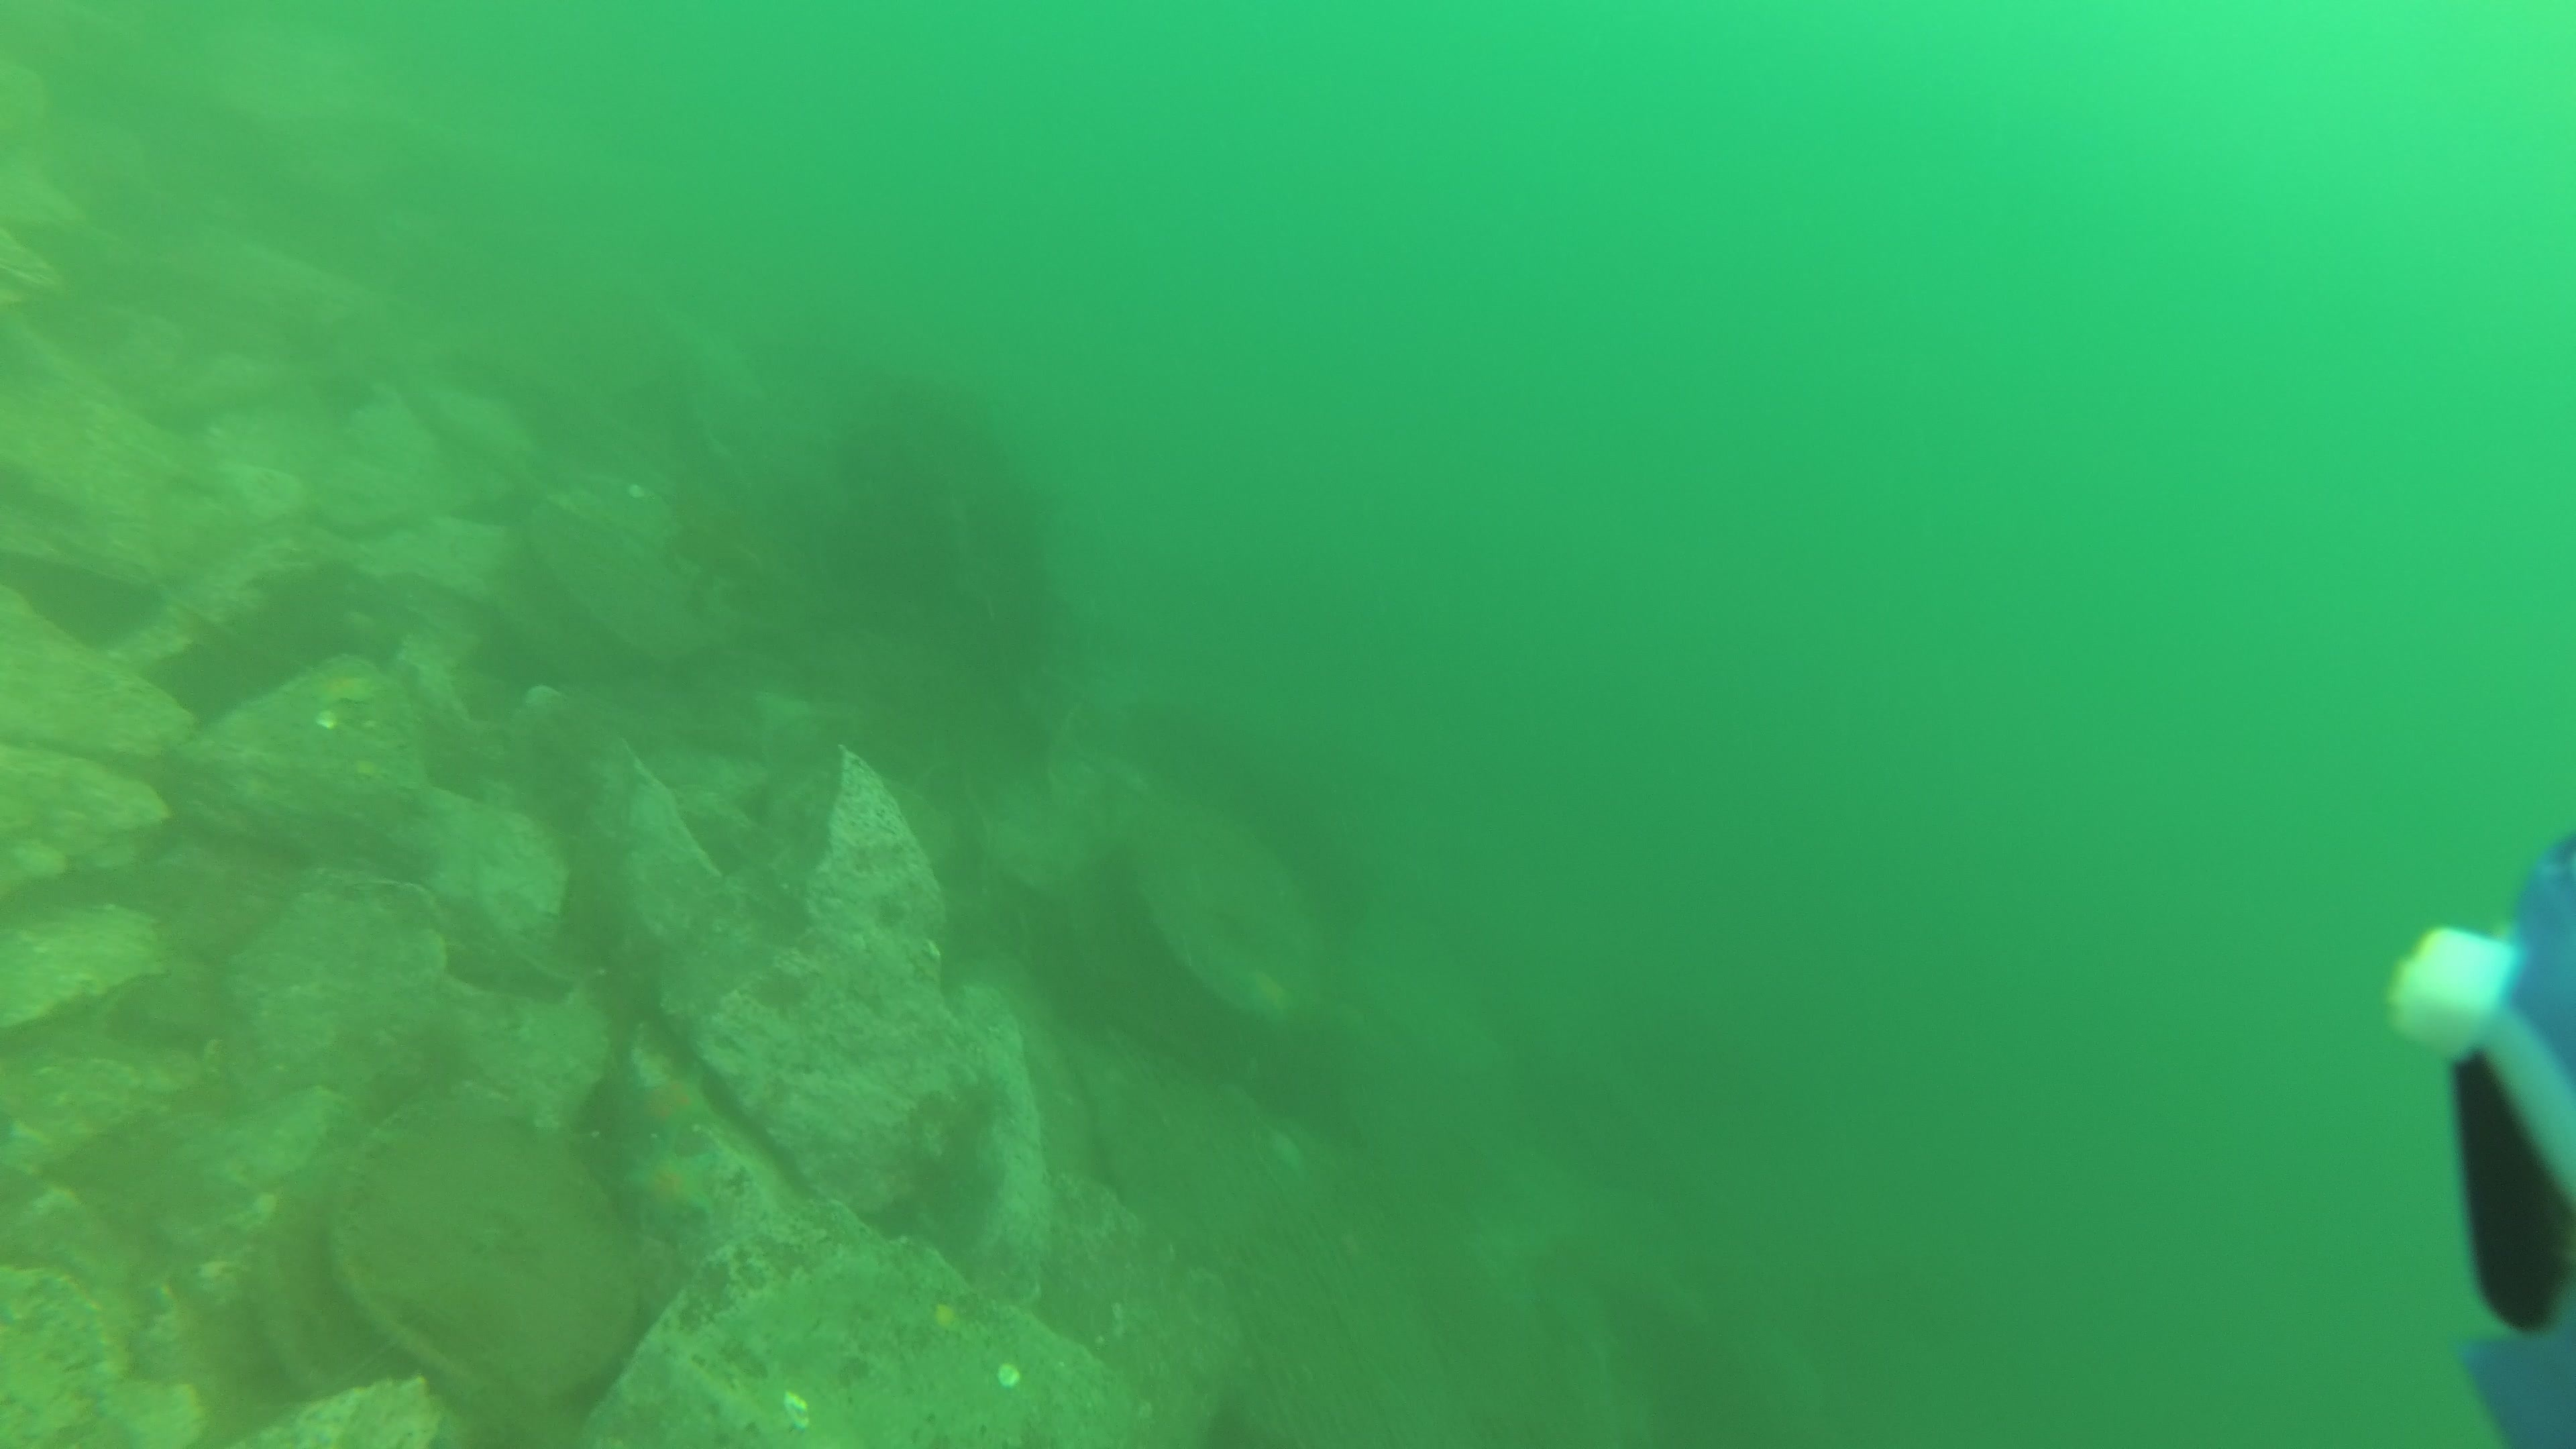starfish: (609, 1139, 720, 1235), (621, 1065, 720, 1145), (1226, 962, 1302, 1028), (311, 671, 379, 713)
